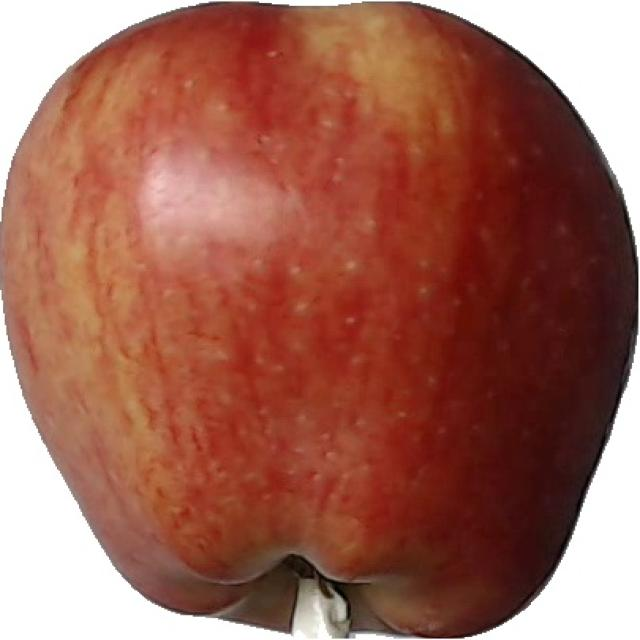apple: (0, 3, 640, 640)
